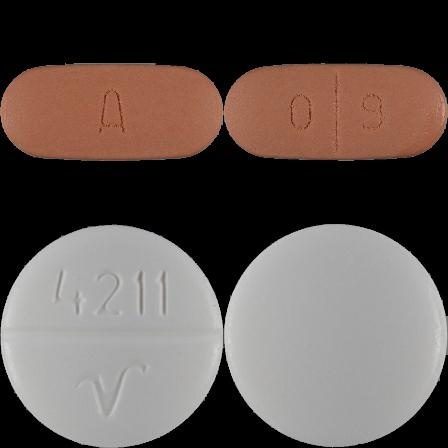35356-688: (0, 0, 224, 224)
